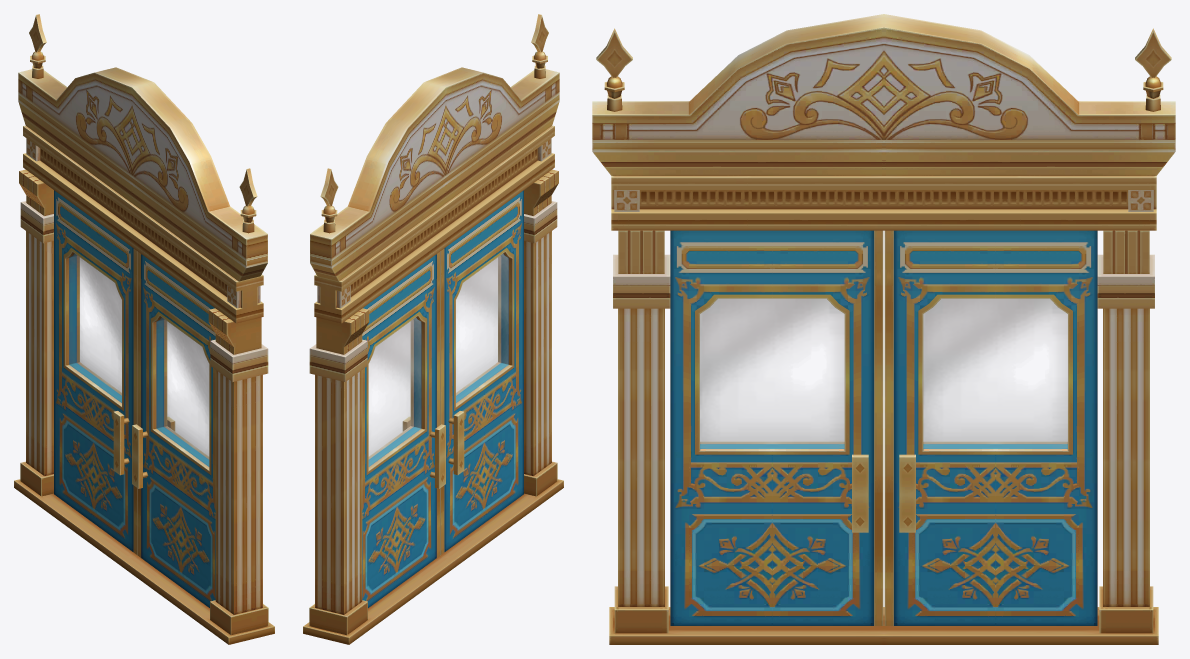
File: my_trinityclassroom_01_door_01.glb
The picture shows the model from 3 angles, left to right: view 1: azimuth 30°, elevation 25°; view 2: azimuth 150°, elevation 25°; view 3: azimuth 270°, elevation 25°; orthographic projection. The views are drawn at different scales.
Parts seen in each view (by area): view 1: my_trinityclassroom_01_door_01; view 2: my_trinityclassroom_01_door_01; view 3: my_trinityclassroom_01_door_01.
Boxes of the visible parts, x1,y1,x2,y2 form: my_trinityclassroom_01_door_01: (14, 14, 274, 644); my_trinityclassroom_01_door_01: (303, 14, 563, 644); my_trinityclassroom_01_door_01: (592, 14, 1175, 644).
Size of the model in its own units: 0.0021 by 0.0207 by 0.018.
2 materials, 2 textured.
